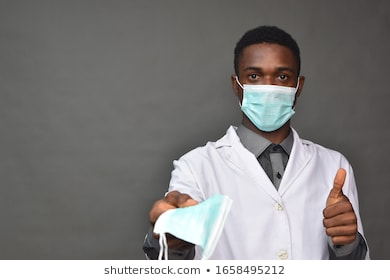mask: (236, 77, 301, 134)
